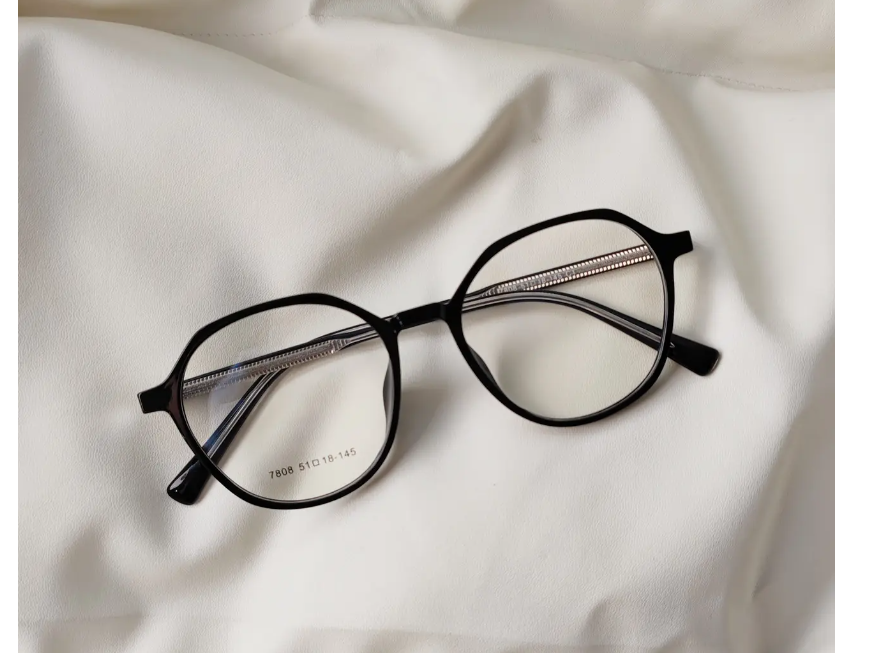glass: (122, 199, 750, 517)
